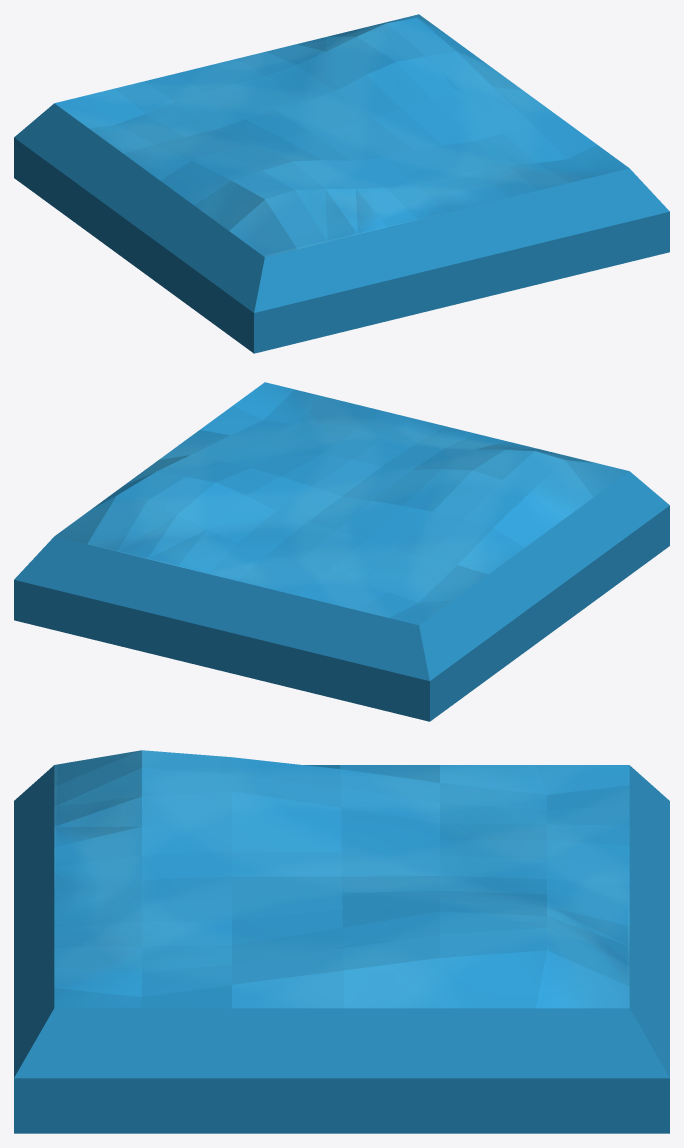
The model's file is ocean_sqr.glb.
3 renders of one model, top to bottom at view 1: azimuth 30°, elevation 25°; view 2: azimuth 150°, elevation 25°; view 3: azimuth 270°, elevation 25°, orthographic. The views are drawn at different scales.
Parts seen in each view (by area): view 1: Cylinder; view 2: Cylinder; view 3: Cylinder.
Boxes of the visible parts, left/top/right/bottom form: Cylinder: left=14, top=14, right=669, bottom=353; Cylinder: left=14, top=382, right=669, bottom=721; Cylinder: left=14, top=750, right=669, bottom=1133.
Size of the model in its own units: 1 by 0.2478 by 1.
Materials: 1 (1 with a texture image).
